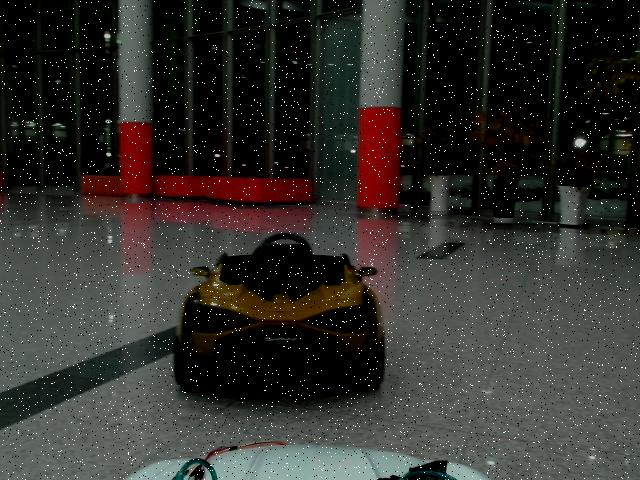car: (174, 233, 384, 393)
